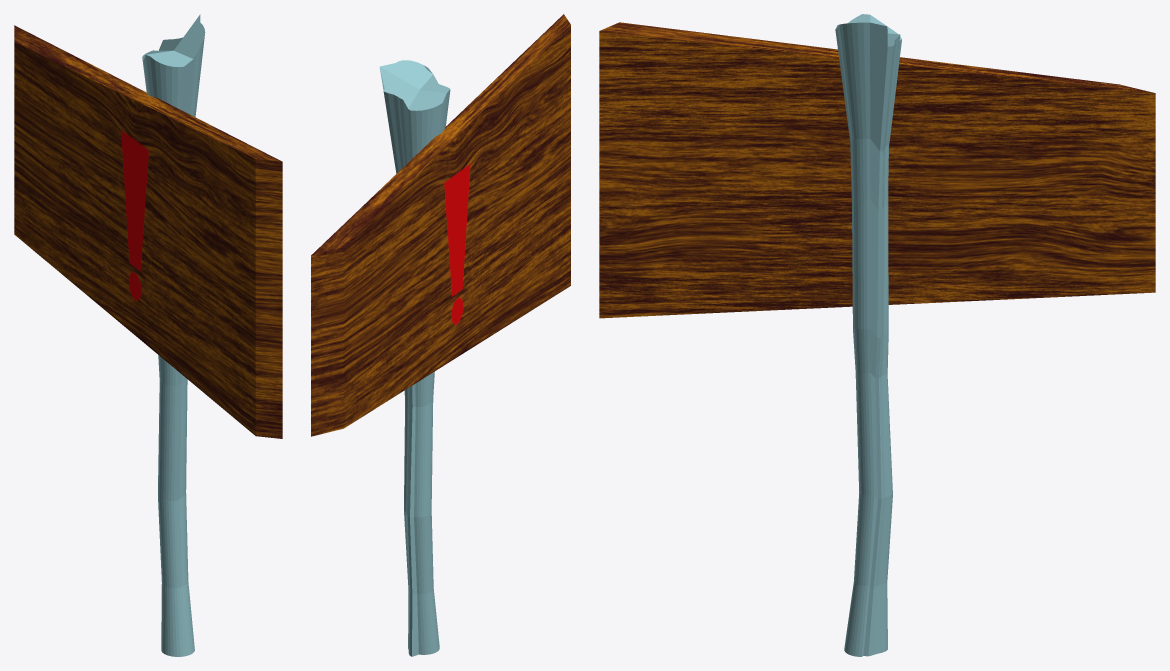
Rendered from kanban.fbx.
3 renders of one model, left to right at view 1: azimuth 30°, elevation 25°; view 2: azimuth 150°, elevation 25°; view 3: azimuth 270°, elevation 25°, orthographic. The views are drawn at different scales.
Parts seen in each view (by area): view 1: 立方体, 円柱; view 2: 立方体, 円柱; view 3: 立方体, 円柱.
Boxes of the visible parts, x1,y1,x2,y2 form: 立方体: (14, 25, 282, 438); 円柱: (142, 14, 205, 656); 立方体: (311, 14, 570, 436); 円柱: (379, 60, 450, 656); 立方体: (599, 22, 1155, 318); 円柱: (835, 14, 901, 656).
Bounding box in the file's own units: 0.453 × 3.62 × 2.85.
